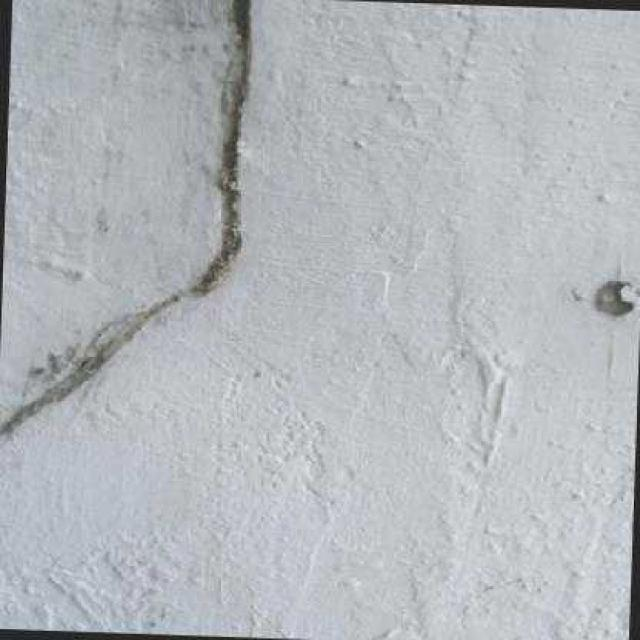D00: (0, 0, 260, 445)
